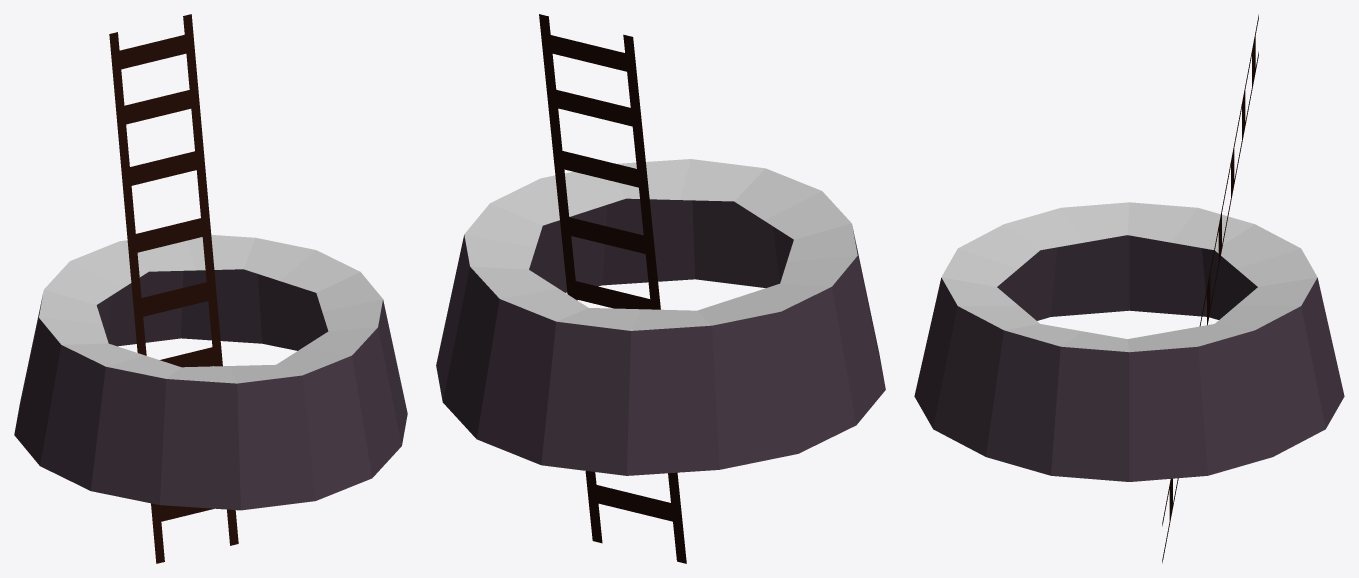
The model's file is mine.obj.
3 renders of one model, left to right at view 1: azimuth 30°, elevation 25°; view 2: azimuth 150°, elevation 25°; view 3: azimuth 270°, elevation 25°, orthographic. The views are drawn at different scales.
Parts seen in each view (by area): view 1: Cube, Plane.002; view 2: Cube, Plane.002; view 3: Cube, Plane.002.
Part boxes in pixels (box(x1,y1,x2,y2)): Cube: box(14, 235, 407, 510); Plane.002: box(109, 14, 238, 563); Cube: box(436, 159, 885, 475); Plane.002: box(539, 14, 686, 563); Cube: box(914, 202, 1344, 481); Plane.002: box(1162, 14, 1258, 563).
Bounding box in the file's own units: 1.61 × 2.23 × 1.71.
